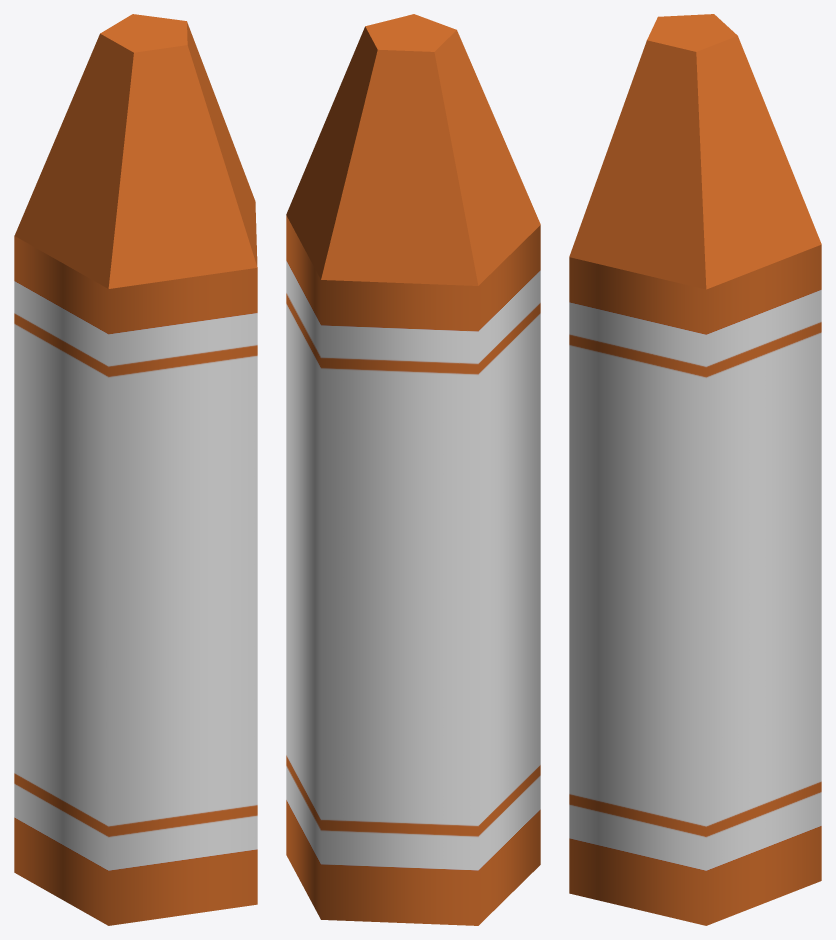
The model's file is Crepas_Orenge.fbx.
3 renders of one model, left to right at view 1: azimuth 30°, elevation 25°; view 2: azimuth 150°, elevation 25°; view 3: azimuth 270°, elevation 25°, orthographic.
Visible parts, largest first — view 1: Orenge; view 2: Orenge; view 3: Orenge.
Boxes of the visible parts, box(x1,y1,x2,y2) form: Orenge: box(14, 14, 257, 925); Orenge: box(286, 14, 540, 925); Orenge: box(569, 14, 821, 925).
Bounding box in the file's own units: 8.36 × 30.99 × 8.46.
1 material, 1 textured.
